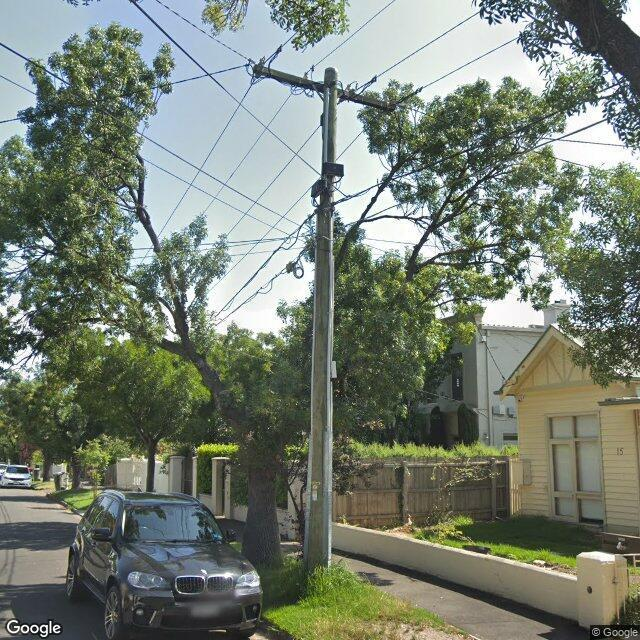crossarm: (253, 65, 396, 112)
timber-pole: (303, 67, 339, 570)
